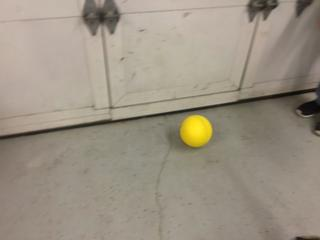power_cell: (176, 112, 218, 153)
